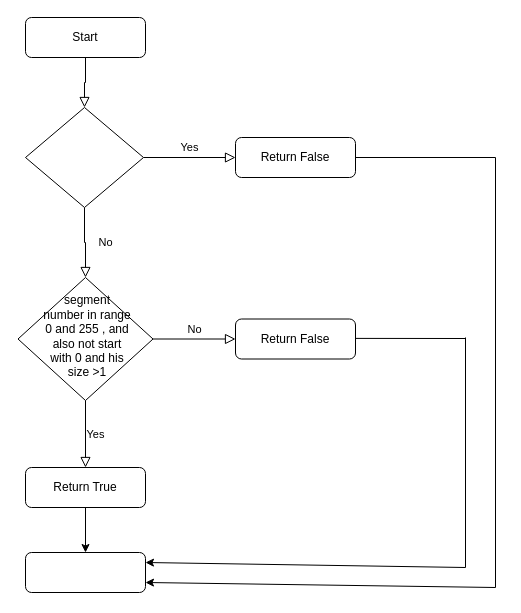
Image size: 521x613. Some labels were removed from this diagram. The shapes that lost their labels are listed below. From the top down, each one's centre as x and y in pixels, then its label:
At [84,157]: "number of segment not equal 4".
At [85,572]: "End".
